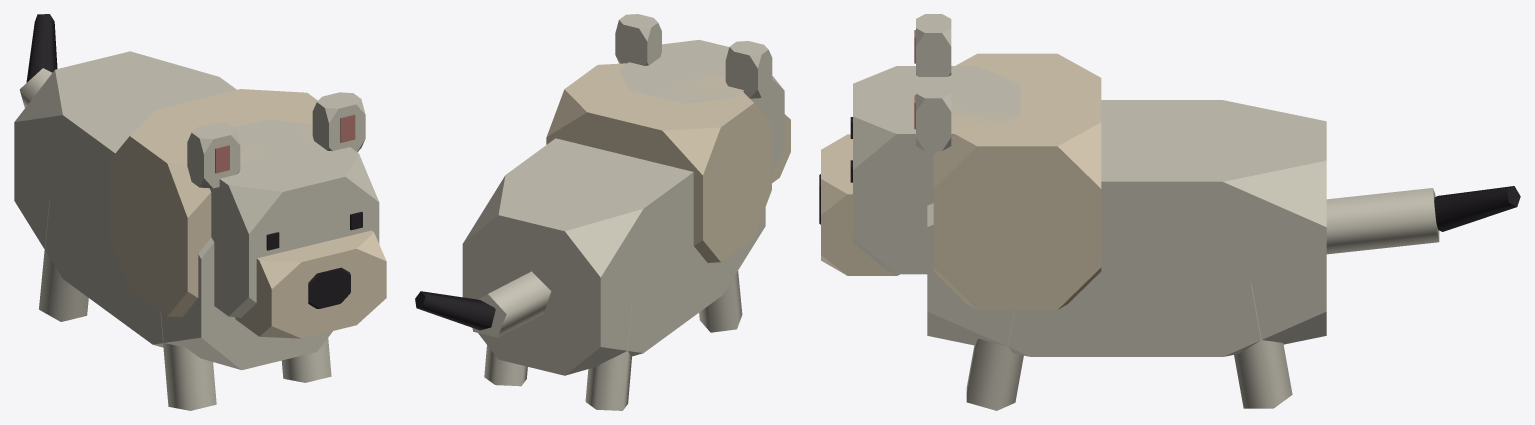
Rendered from original-wolf.glb.
3 views of the same model, side by side, from view 1: azimuth 30°, elevation 25°; view 2: azimuth 150°, elevation 25°; view 3: azimuth 270°, elevation 25° (orthographic). The views are drawn at different scales.
Visible parts, largest first — view 1: wolf; view 2: wolf; view 3: wolf.
Boxes of the visible parts, x1,y1,x2,y2 form: wolf: [14, 14, 386, 410]; wolf: [415, 14, 790, 410]; wolf: [819, 14, 1520, 410].
Size of the model in its own units: 0.6801 by 1.08 by 2.18.
